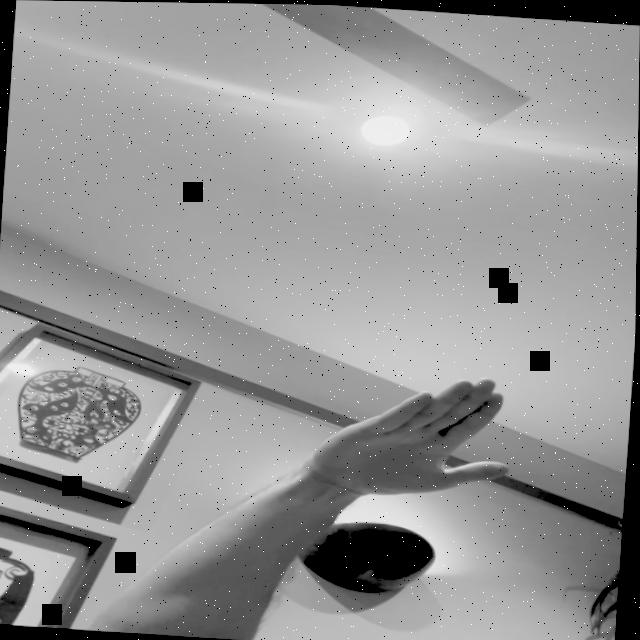Paper: (302, 364, 522, 502)
